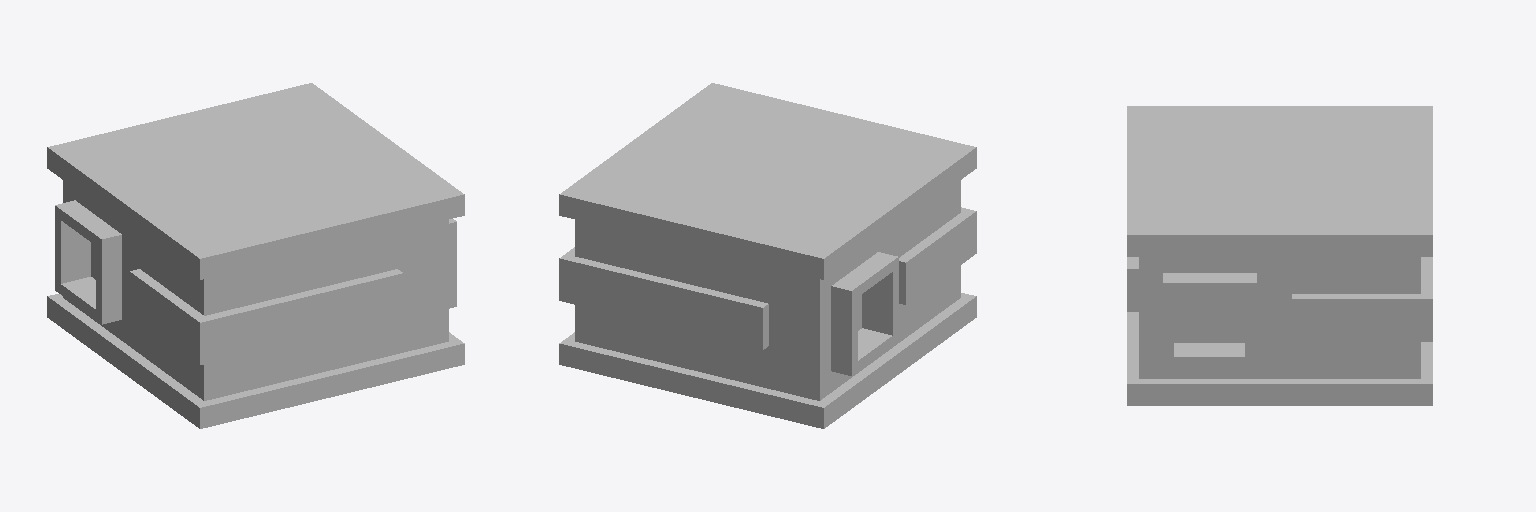
File: smelter.obj
3 views of the same model, side by side, from view 1: azimuth 30°, elevation 25°; view 2: azimuth 150°, elevation 25°; view 3: azimuth 270°, elevation 25° (orthographic).
Parts seen in each view (by area): view 1: object 1; view 2: object 1; view 3: object 1.
Boxes of the visible parts, <box> form: object 1: <box>47,83,464,428</box>; object 1: <box>559,83,976,428</box>; object 1: <box>1127,106,1432,405</box>.
Bounding box in the file's own units: 2.8 × 1.6 × 2.6.